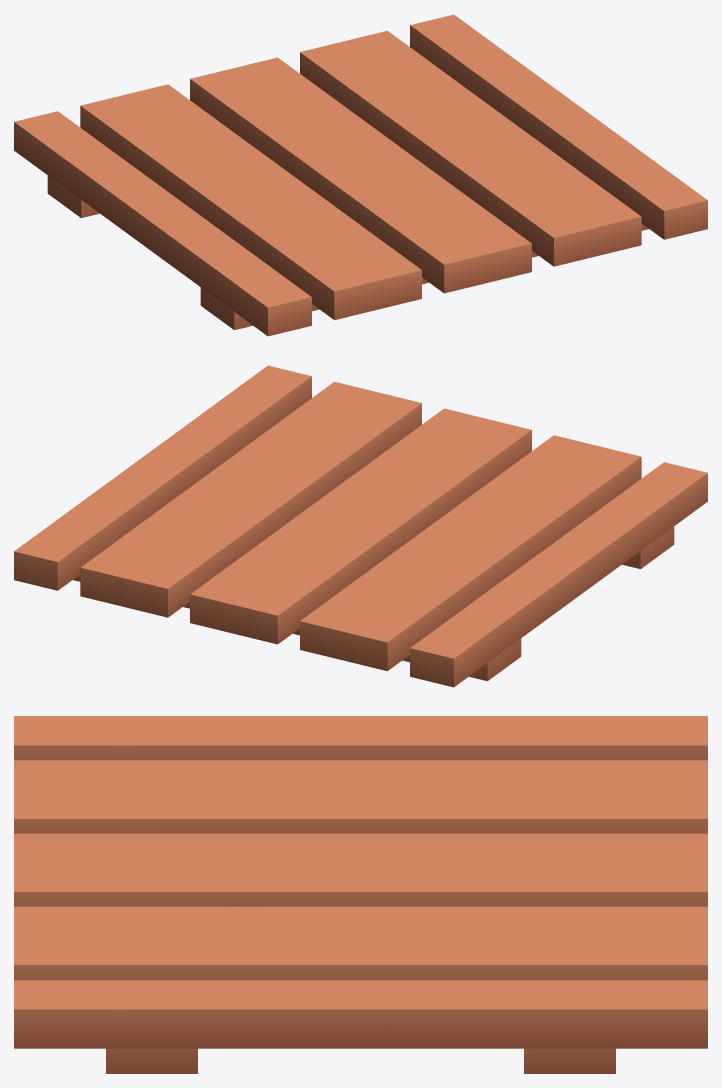
The model's file is kenney-floor.glb.
3 views of the same model, one above another, from view 1: azimuth 30°, elevation 25°; view 2: azimuth 150°, elevation 25°; view 3: azimuth 270°, elevation 25° (orthographic). The views are drawn at different scales.
Visible parts, largest first — view 1: floor; view 2: floor; view 3: floor.
Boxes of the visible parts, bbox=[...] form: floor: bbox=[14, 14, 707, 336]; floor: bbox=[14, 365, 707, 687]; floor: bbox=[14, 716, 707, 1073].
Size of the model in its own units: 0.5 by 0.0512 by 0.5.
1 material, 1 textured.
